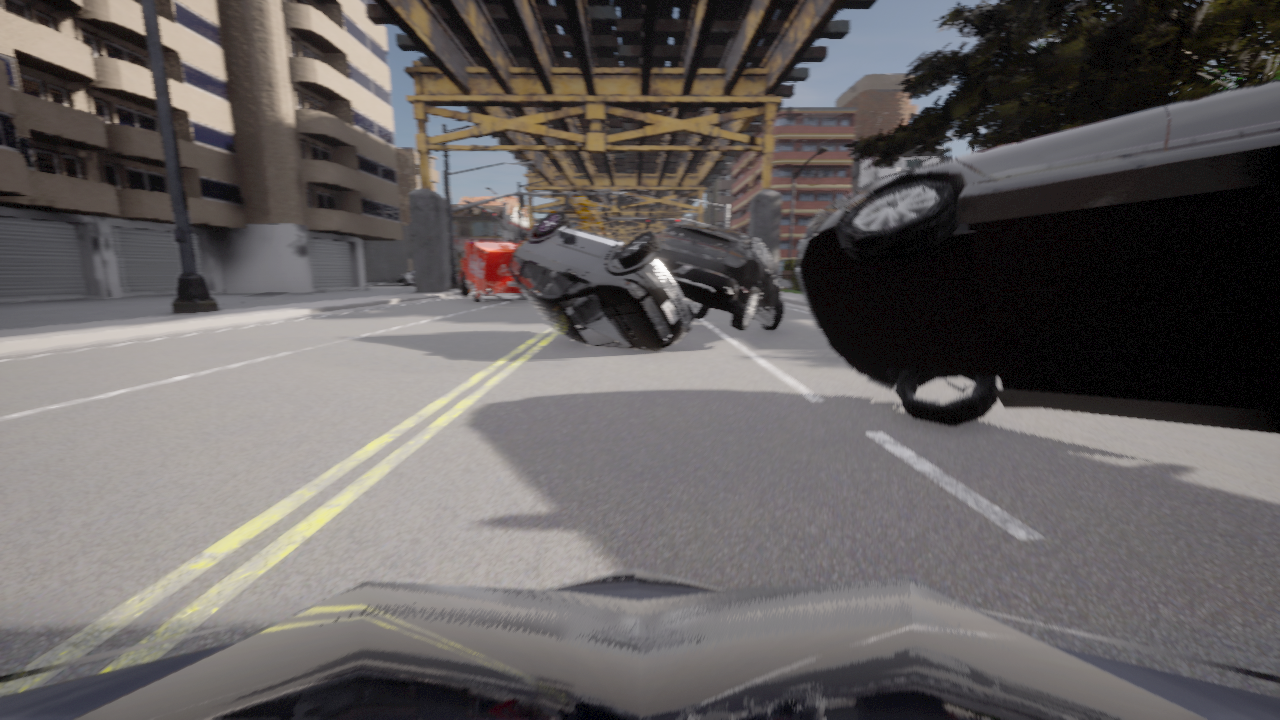cyclist: (0, 569, 1279, 719), (796, 80, 1279, 433), (508, 211, 695, 351), (655, 224, 792, 330), (453, 241, 529, 301), (397, 270, 414, 286), (456, 272, 459, 276)
